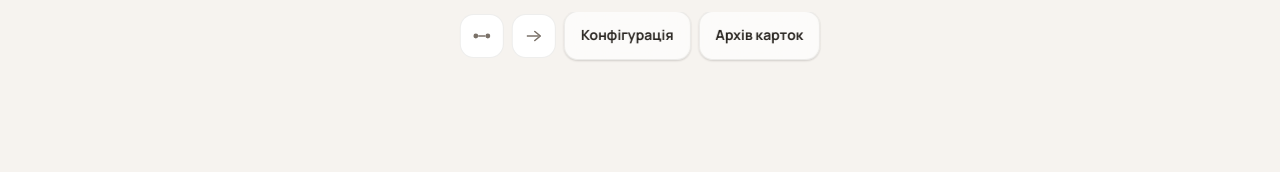
Test: вимоги 4/5 (чат): два завжди видимі інструменти "Лінія"/"Стрілка" -- без проміжної кнопки-шлюзу "Зв'язати" › повторний клік по вже активному інструменту вимикає режим зв'язування без побічних дій
Click the button named "Лінія": (482, 36) [460,14,504,58]
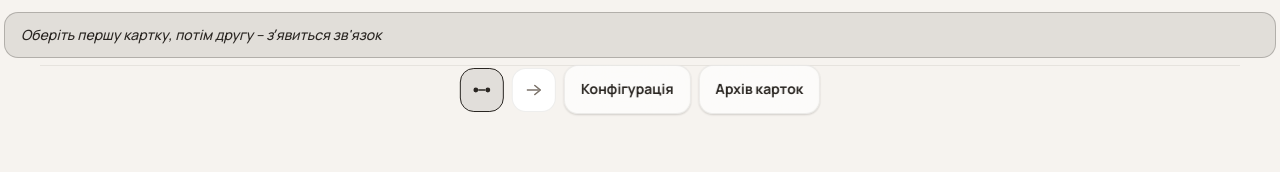
Now the text "Оберіть першу картку, потім другу -- зʼявиться зв'язок" is shown, box [4,12,1276,58]
Click the button named "Лінія": (482, 90) [460,68,504,112]
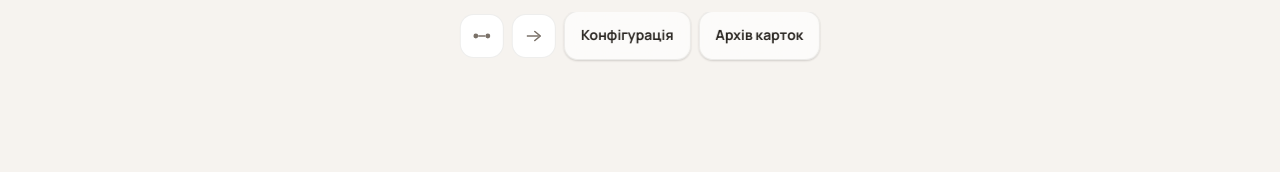
Now the text "Оберіть першу картку" is gone
